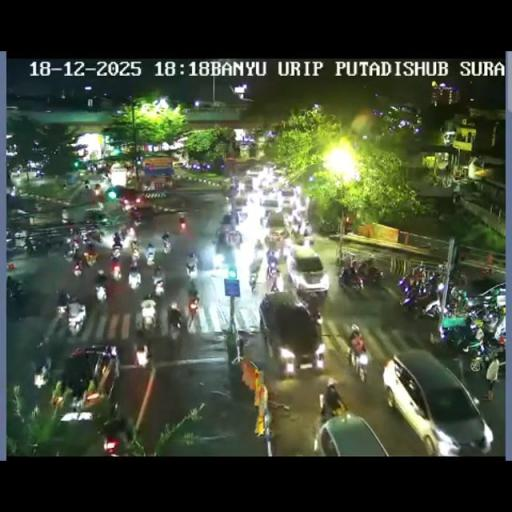Car: (385, 348, 492, 454), (258, 290, 324, 375), (58, 346, 118, 407), (314, 414, 391, 455), (286, 244, 327, 302), (264, 210, 286, 239), (83, 208, 109, 225), (261, 192, 281, 213), (279, 187, 296, 210), (231, 191, 248, 210), (246, 166, 262, 182), (272, 168, 286, 184)
Motorcycle: (69, 227, 177, 295), (400, 273, 442, 317), (462, 330, 504, 372), (440, 318, 474, 352), (37, 311, 64, 346), (347, 341, 370, 381), (320, 399, 347, 426), (339, 266, 364, 294), (66, 300, 86, 335), (463, 300, 491, 324), (448, 286, 470, 316), (138, 298, 158, 330), (234, 328, 254, 360), (266, 248, 280, 290), (34, 356, 52, 388), (362, 264, 385, 289), (278, 346, 296, 376), (214, 232, 232, 260), (6, 275, 25, 299), (46, 238, 68, 258), (492, 308, 506, 338), (134, 341, 150, 366), (450, 267, 467, 289), (56, 290, 70, 316), (314, 342, 326, 372), (85, 227, 104, 244), (128, 266, 142, 289), (152, 270, 165, 294), (94, 282, 108, 304), (168, 318, 182, 340), (187, 290, 199, 314), (290, 208, 302, 230), (186, 259, 198, 280), (119, 223, 133, 241), (84, 249, 98, 267), (110, 260, 122, 281), (6, 236, 18, 256), (282, 240, 294, 259), (129, 238, 140, 258), (230, 229, 242, 247), (248, 273, 258, 293), (254, 241, 264, 261), (25, 237, 36, 255), (63, 246, 75, 262), (145, 248, 155, 265), (302, 223, 312, 240), (121, 198, 133, 212), (236, 209, 248, 223), (162, 238, 172, 254), (112, 239, 122, 252), (178, 214, 186, 230), (73, 262, 82, 276), (71, 238, 80, 252), (481, 266, 492, 277), (132, 216, 142, 228), (11, 167, 22, 177), (8, 186, 18, 196), (86, 163, 96, 173), (94, 186, 100, 196), (84, 184, 90, 190)
